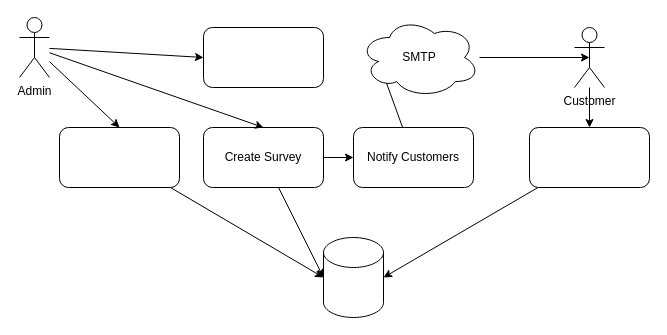
This 667x335 diagram has some shape labels left out. The shapes that lost their labels are listed below. From the top down, each one's box as (x1, y1, x2, y2) in pixels, then its label:
(202, 26, 324, 88): Survey Result
(58, 126, 180, 188): Create Customer
(528, 126, 650, 188): Customer Responde Survey by Email
